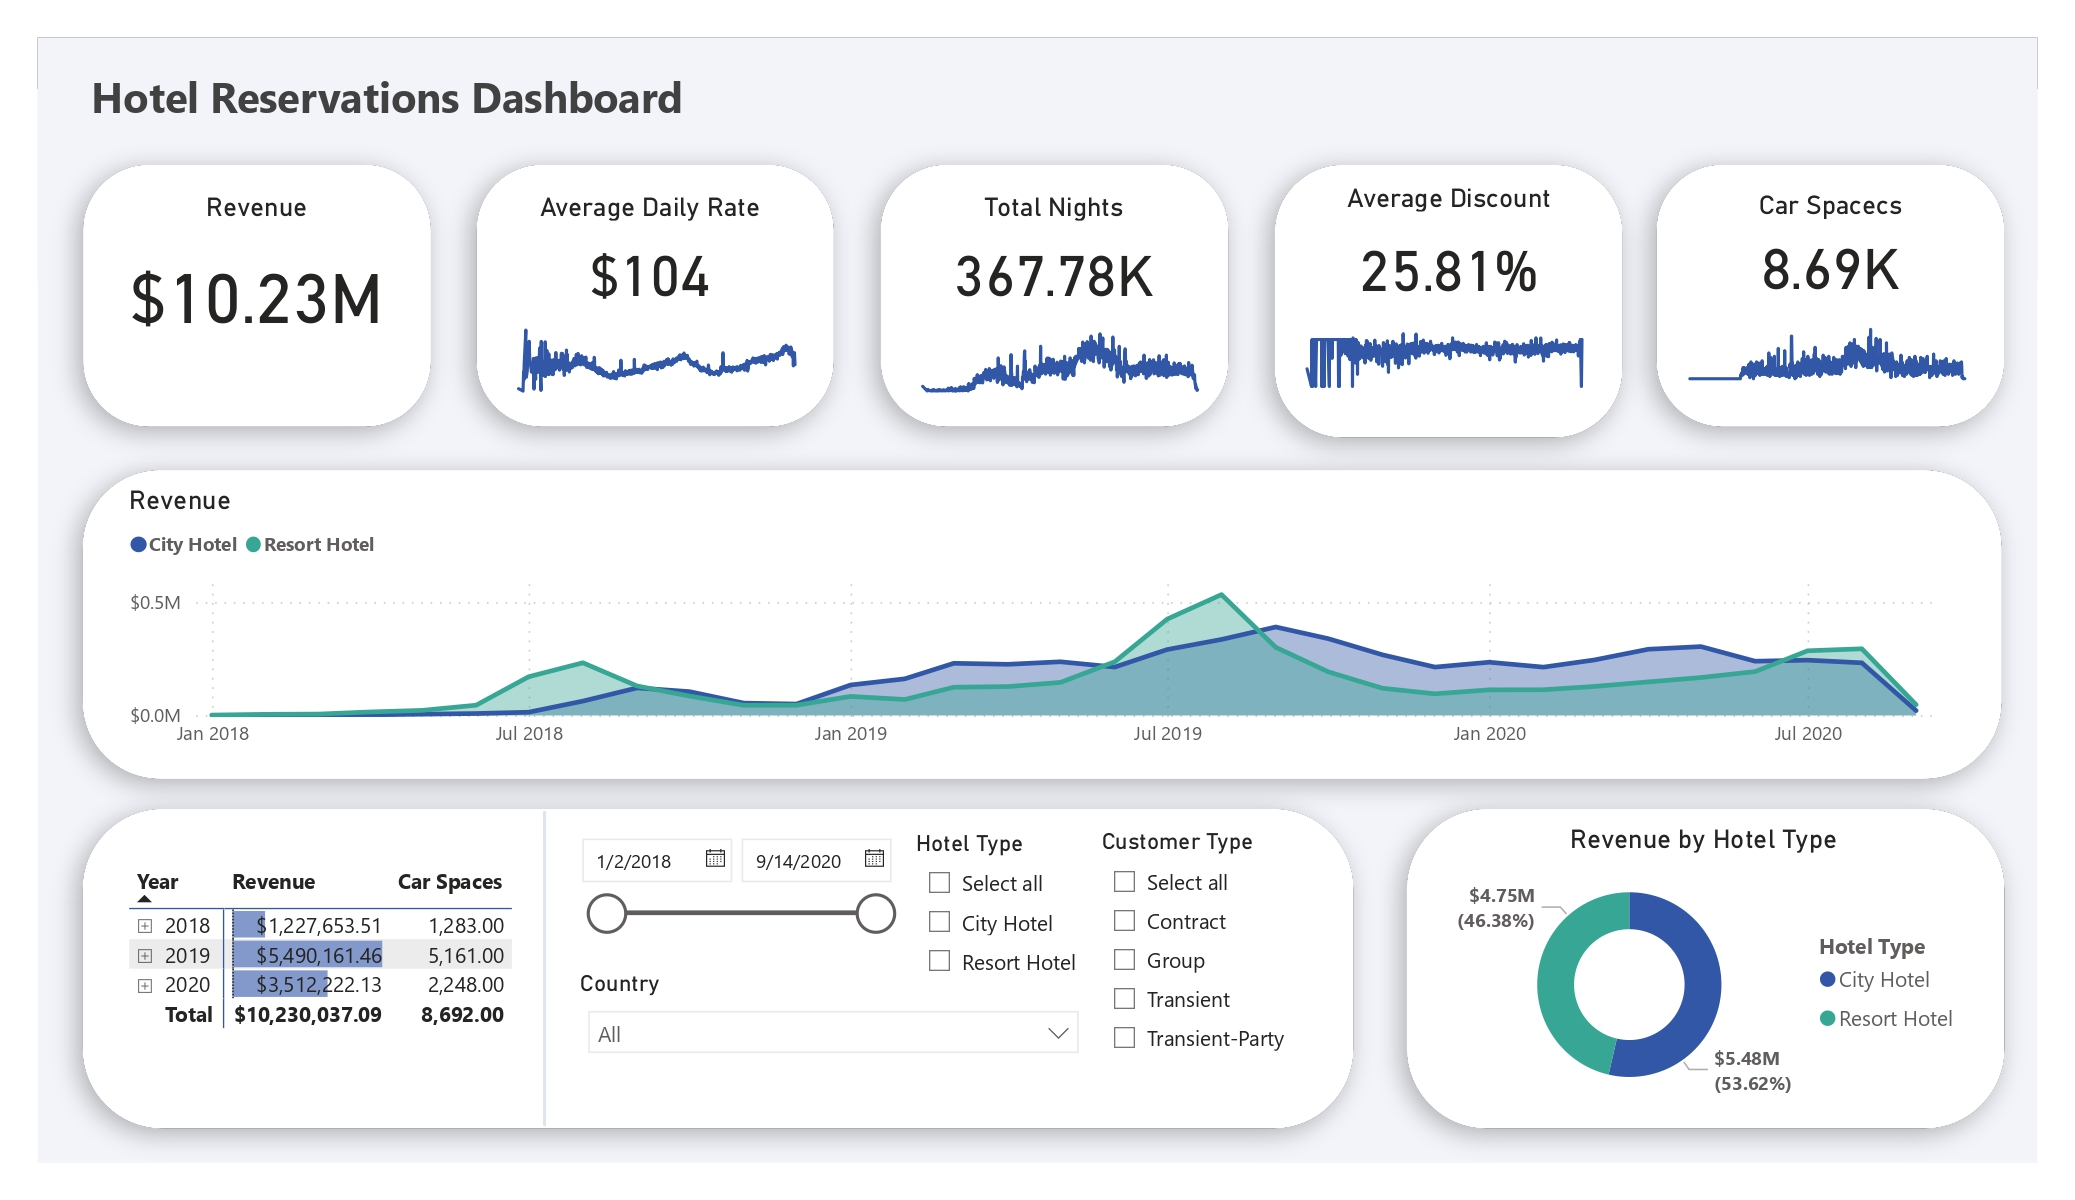

What the dashboard file says about the page in this screenshot:
{"tool":"powerbi","page":{"name":"Hotel Reservations","canvas":[1280,720],"ordinal":0},"visuals":[{"type":"textbox","box":[29.2,14.6,521.3,56.4],"z":0},{"type":"shape","box":[770.3,60.3,264.6,216.9],"z":1000},{"type":"card","title":"Average Discount","fields":{"Values":["Avg(Query1.Discount)"]},"box":[804.4,92.4,198.4,88.5],"z":2000},{"type":"shape","box":[1015.4,60.3,264.6,210.1],"z":3000},{"type":"shape","box":[259.7,60.4,271.3,210.3],"z":4000},{"type":"lineChart","title":"Total Revenue","fields":{"Category":["Query1.reservation_status_date.Variation.Date Hierarchy.Year","Query1.reservation_status_date.Variation.Date Hierarchy.Quarter","Query1.reservation_status_date.Variation.Date Hierarchy.Month","Query1.reservation_status_date.Variation.Date Hierarchy.Day"],"Y":["Avg(Query1.Discount)"]},"box":[797.6,164.4,206.2,65.2],"z":5000},{"type":"shape","box":[7.8,60.4,264.9,210.3],"z":6000},{"type":"shape","box":[518.1,60.4,264.9,210.3],"z":7000},{"type":"card","title":"Car Spacecs","fields":{"Values":["Sum(Query1.required_car_parking_spaces)"]},"box":[1047.5,97.3,200.4,75.9],"z":8000},{"type":"card","title":"Average Daily Rate","fields":{"Values":["Avg(Query1.adr)"]},"box":[291.8,98.2,200.4,82.7],"z":9000},{"type":"shape","box":[7.8,255.8,1271.2,240.2],"z":10000},{"type":"lineChart","title":"Total Revenue","fields":{"Category":["Query1.reservation_status_date.Variation.Date Hierarchy.Year","Query1.reservation_status_date.Variation.Date Hierarchy.Quarter","Query1.reservation_status_date.Variation.Date Hierarchy.Month","Query1.reservation_status_date.Variation.Date Hierarchy.Day"],"Y":["Sum(Query1.required_car_parking_spaces)"]},"box":[1042.7,161.5,206.2,63.2],"z":11000},{"type":"card","title":"Revenue","fields":{"Values":["Sum(Query1.Revenue)"]},"box":[39.9,98.2,200.4,108.9],"z":12000},{"type":"areaChart","title":"Revenue","fields":{"Y":["Sum(Query1.Revenue)"],"Series":["Query1.hotel"],"Category":["Query1.Start of Month"]},"box":[53.7,286.2,1175.9,178.2],"z":13000},{"type":"card","title":"Total Nights","fields":{"Values":["Query1.Total Nights"]},"box":[550.5,98.2,200.4,82.7],"z":14000},{"type":"lineChart","title":"Total Revenue","fields":{"Category":["Query1.reservation_status_date.Variation.Date Hierarchy.Year","Query1.reservation_status_date.Variation.Date Hierarchy.Quarter","Query1.reservation_status_date.Variation.Date Hierarchy.Month","Query1.reservation_status_date.Variation.Date Hierarchy.Day"],"Y":["Avg(Query1.adr)"]},"box":[292.8,164.4,207.2,68.1],"z":15000},{"type":"lineChart","title":"Total Revenue","fields":{"Category":["Query1.reservation_status_date.Variation.Date Hierarchy.Year","Query1.reservation_status_date.Variation.Date Hierarchy.Quarter","Query1.reservation_status_date.Variation.Date Hierarchy.Month","Query1.reservation_status_date.Variation.Date Hierarchy.Day"],"Y":["Query1.Total Nights"]},"box":[551.5,165.3,206.2,67.1],"z":16000},{"type":"shape","box":[855,472.7,425,247.1],"z":17000},{"type":"donutChart","title":"Revenue by Hotel Type","fields":{"Y":["Sum(Query1.Revenue)"],"Category":["Query1.hotel"]},"box":[892.9,502.9,347.2,187.7],"z":18000},{"type":"shape","box":[7.8,472.7,855.9,247.1],"z":19000},{"type":"pivotTable","fields":{"Rows":["Query1.reservation_status_date.Variation.Date Hierarchy.Year","Query1.hotel"],"Values":["Sum(Query1.Revenue)","Query1.Parking %"]},"box":[53.5,525.2,252.9,194.5],"z":20000},{"type":"shape","box":[306.4,495.1,36,202.3],"z":21000},{"type":"slicer","fields":{"Values":["Query1.reservation_status_date"]},"box":[335.6,502.9,221.8,78.8],"z":22000},{"type":"slicer","title":"Hotel Type","fields":{"Values":["Query1.hotel"]},"box":[557.3,507.7,137.1,178],"z":23000},{"type":"slicer","title":"Country","fields":{"Values":["Query1.country"]},"box":[342.4,597.2,333.6,102.1],"z":24000},{"type":"slicer","title":"Customer Type","fields":{"Values":["Query1.customer_type"]},"box":[676,506.7,149.8,192.6],"z":25000}]}

Visuals, with their boxes in screenshot pixels (x1, y1, x2, y2):
textbox: 83 60 898 148
shape: 1241 132 1655 471
"Average Discount" card: 1294 182 1604 320
shape: 1624 132 2038 460
shape: 443 132 867 460
"Total Revenue" lineChart: 1284 294 1606 396
shape: 50 132 464 460
shape: 847 132 1261 460
"Car Spacecs" card: 1674 190 1987 308
"Average Daily Rate" card: 493 191 807 320
shape: 50 437 2036 812
"Total Revenue" lineChart: 1667 290 1989 389
"Revenue" card: 100 191 413 361
"Revenue" areaChart: 121 485 1959 763
"Total Nights" card: 898 191 1211 320
"Total Revenue" lineChart: 495 294 819 401
"Total Revenue" lineChart: 899 296 1221 401
shape: 1373 776 2038 1162
"Revenue by Hotel Type" donutChart: 1433 823 1975 1117
shape: 50 776 1387 1162
pivotTable - Query1.reservation_status_date.Variation.Date Hierarchy.Year x Query1.hotel: 121 858 516 1162
shape: 516 811 572 1127
slicer - Query1.reservation_status_date: 562 823 908 946
"Hotel Type" slicer: 908 831 1122 1109
"Country" slicer: 572 971 1094 1130
"Customer Type" slicer: 1094 829 1328 1130
